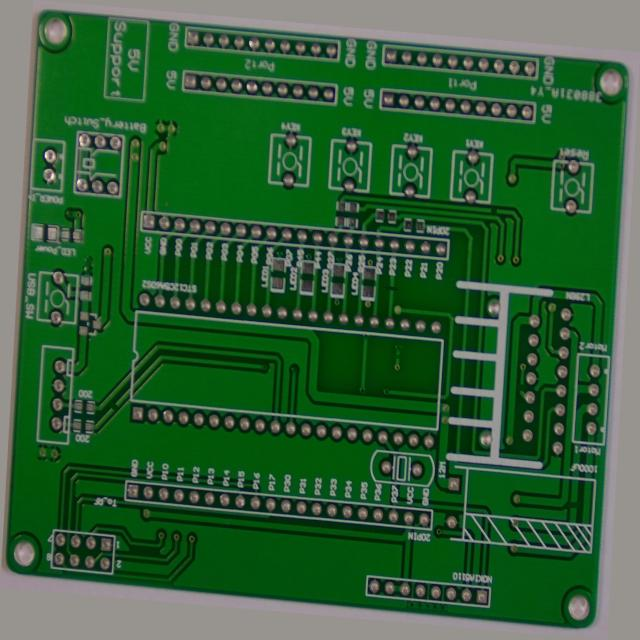open_circuit: (591, 488, 604, 506), (387, 274, 402, 286), (103, 428, 117, 440), (531, 367, 540, 382), (490, 180, 501, 191)
